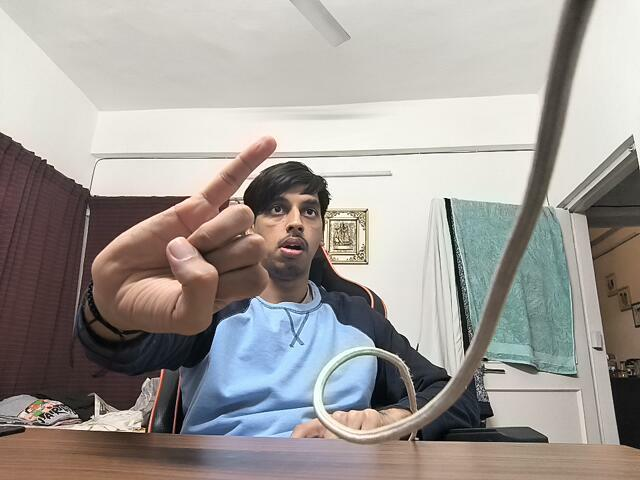RIGHT: (79, 128, 289, 338)
